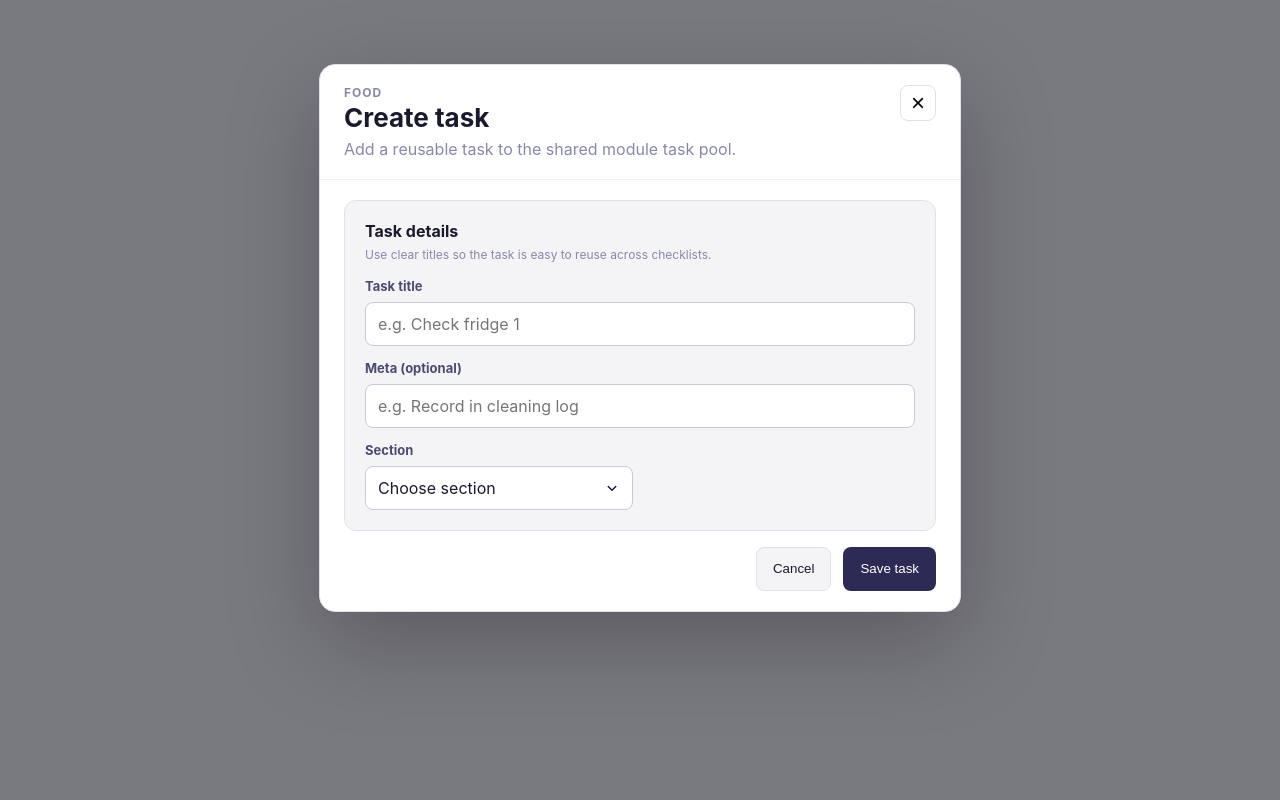
Test: CreateTaskTemplateModal › loads fridge items on open and validates required fields before submit
Step 1. Submit the form, box [320, 180, 960, 611]
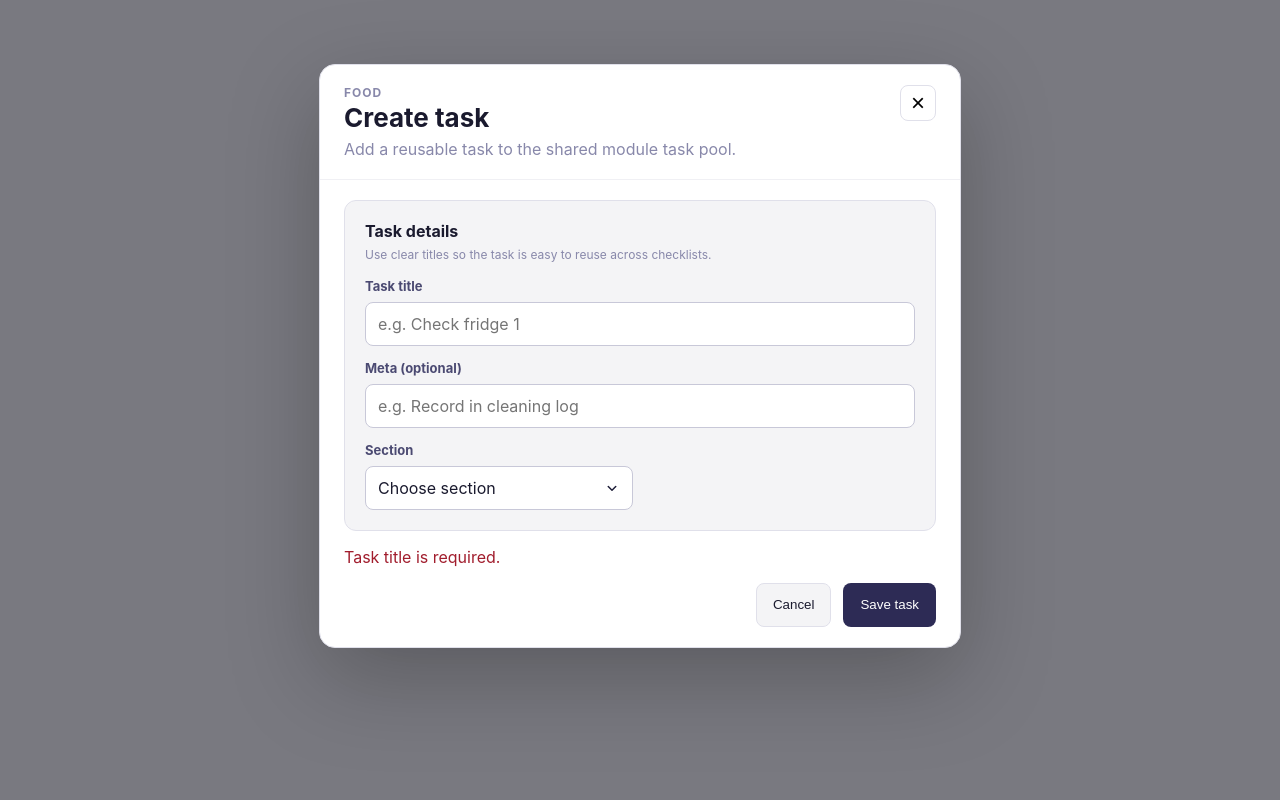
Check: the text "Task title is required." is shown, box [344, 547, 500, 567]
Step 2. Type "Check fridge seals" into the field labelled "Task title" → (640, 324), box [365, 302, 915, 346]
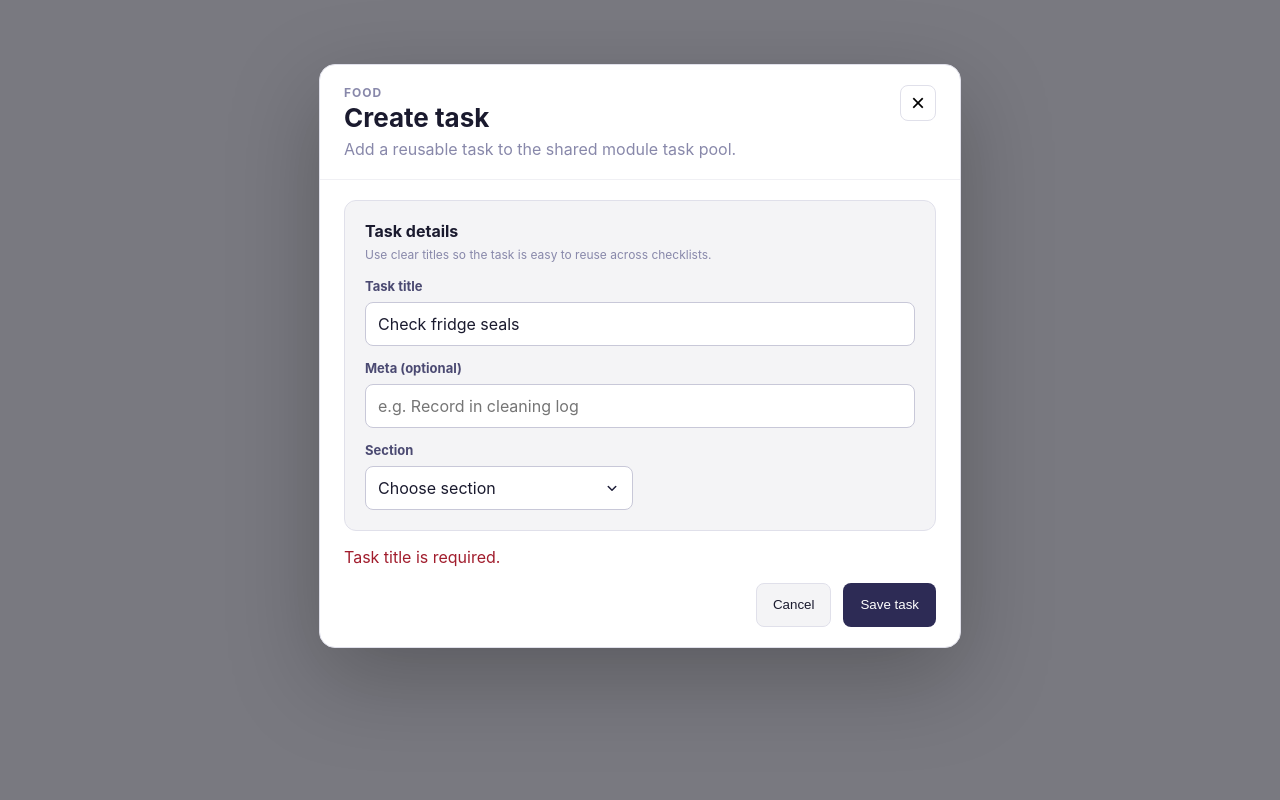
Step 3. Submit the form, box [320, 180, 960, 647]
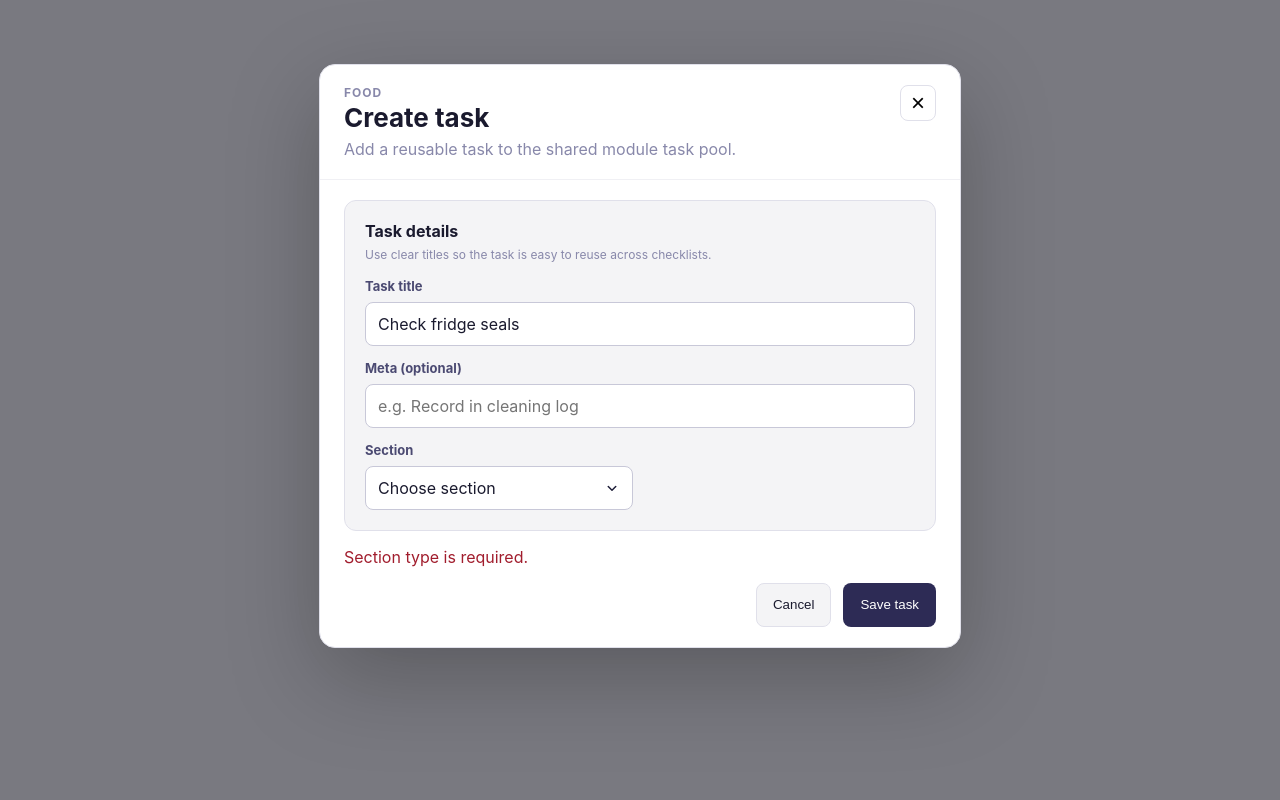
Check: the text "Section type is required." is shown, box [344, 547, 528, 567]
